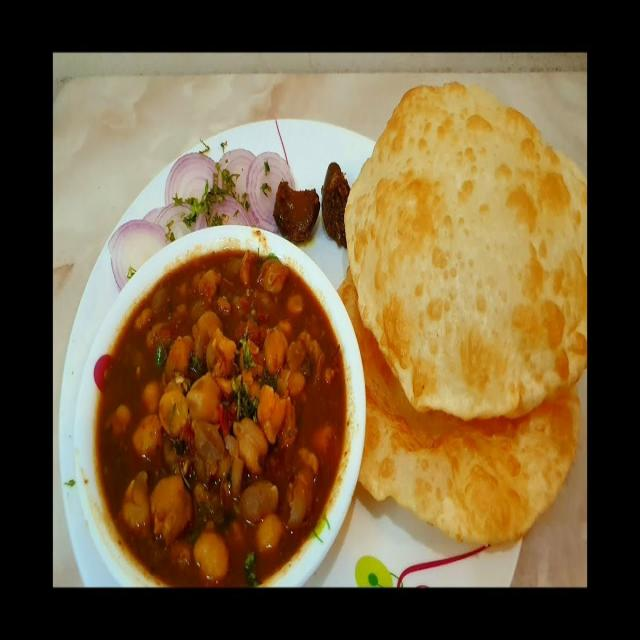Bhatura: (337, 77, 588, 546)
Chole: (110, 252, 342, 579)
